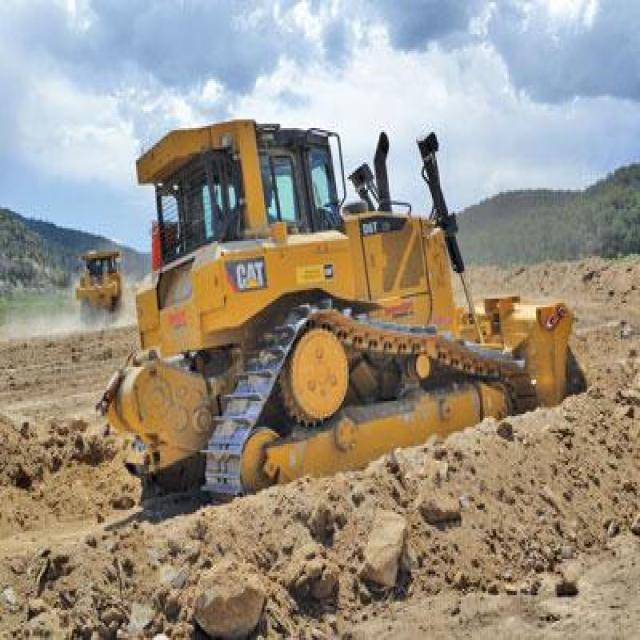Bulldozer: (53, 104, 592, 490)
